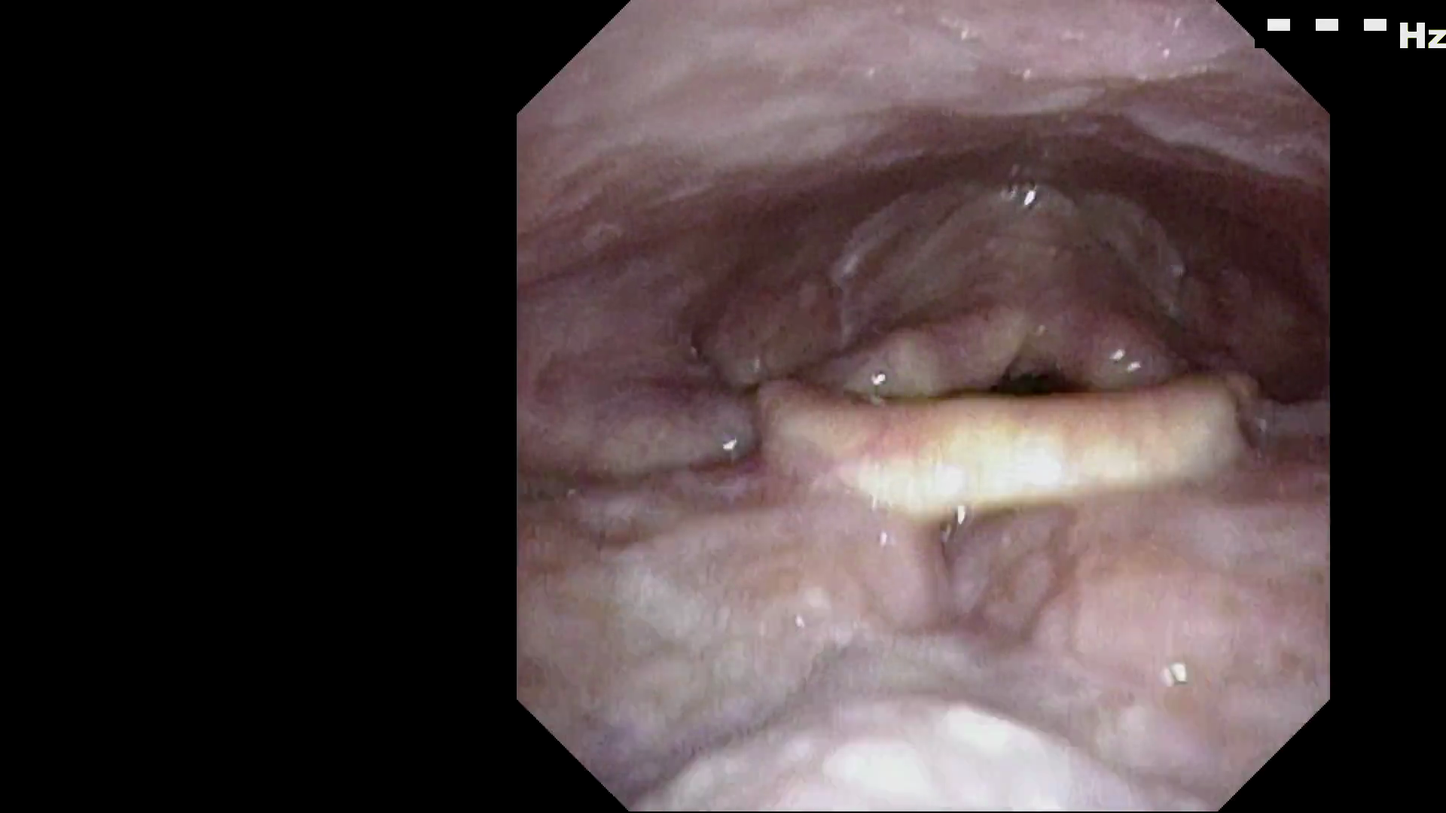epiglottis: (764, 254, 1233, 441)
